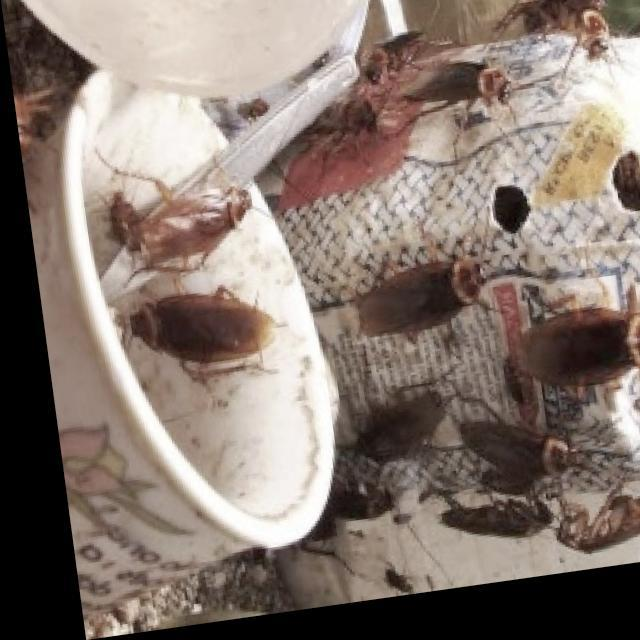cockroach: (84, 268, 294, 396), (321, 242, 507, 348), (108, 168, 269, 281), (334, 374, 464, 502), (451, 398, 600, 506), (415, 477, 559, 561), (396, 46, 537, 125), (510, 304, 640, 387), (507, 0, 638, 78), (279, 87, 405, 159), (526, 493, 640, 559), (360, 12, 446, 82), (374, 554, 424, 616)
